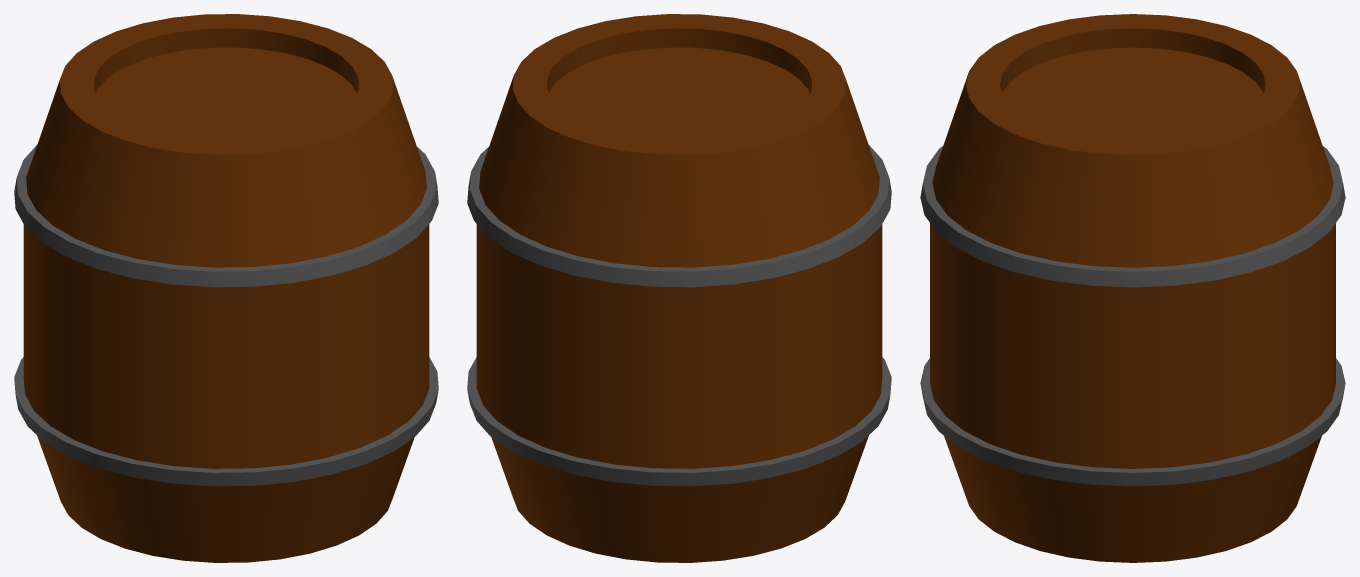
File: barrel.fbx
3 renders of one model, left to right at view 1: azimuth 30°, elevation 25°; view 2: azimuth 150°, elevation 25°; view 3: azimuth 270°, elevation 25°, orthographic.
Visible parts, largest first — view 1: Walec; view 2: Walec; view 3: Walec.
Boxes of the visible parts, x1,y1,x2,y2 form: Walec: (14, 14, 438, 562); Walec: (467, 14, 891, 562); Walec: (920, 14, 1345, 562).
Bounding box in the file's own units: 209 × 222 × 209.
